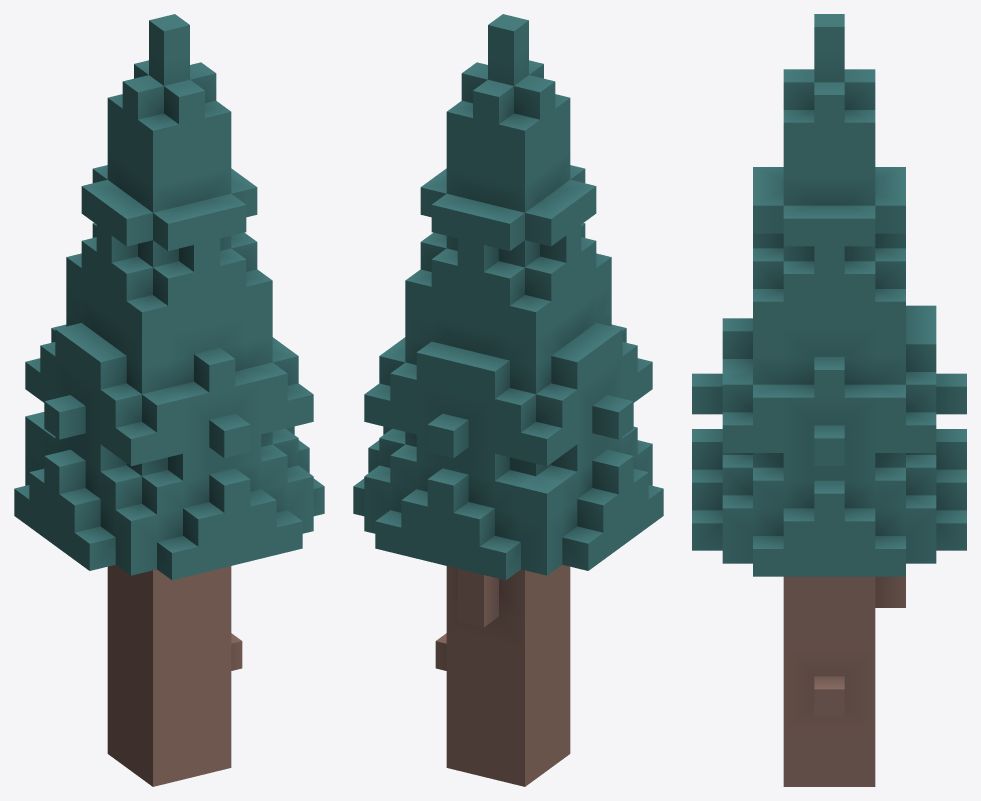
File: tree_pine.glb
3 renders of one model, left to right at view 1: azimuth 30°, elevation 25°; view 2: azimuth 150°, elevation 25°; view 3: azimuth 270°, elevation 25°, orthographic.
Parts seen in each view (by area): view 1: voxels; view 2: voxels; view 3: voxels.
Part boxes in pixels (x1,y1,x2,y2): voxels: [14, 14, 324, 786]; voxels: [353, 14, 663, 786]; voxels: [692, 14, 966, 786].
Bounding box in the file's own units: 0.535 × 1.61 × 0.535.
